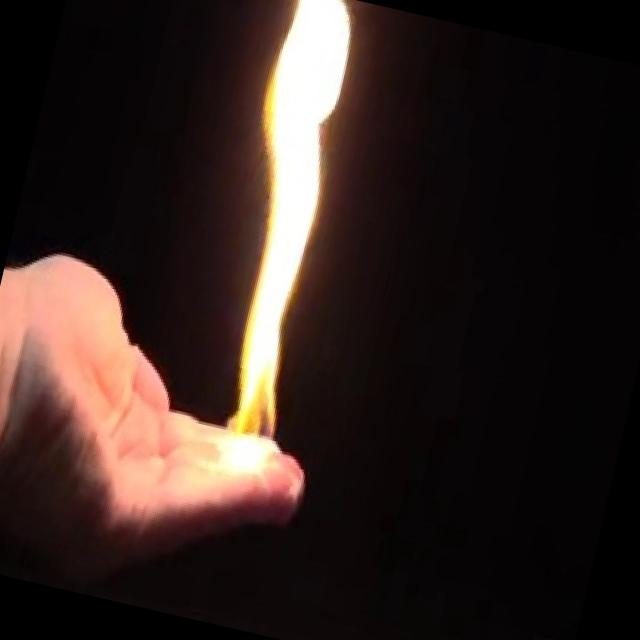Fire: (168, 0, 380, 493)
